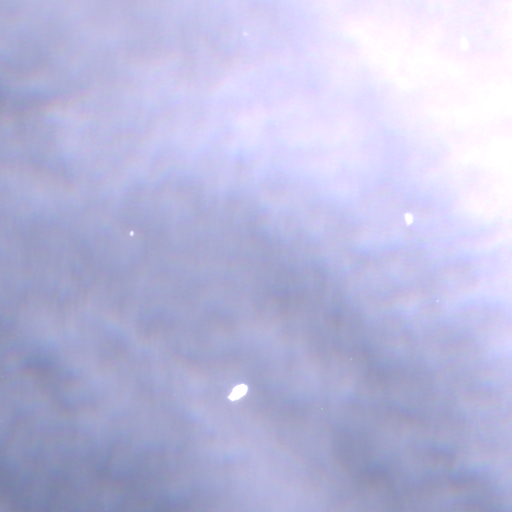Iceberg: (227, 384, 247, 400), (460, 38, 467, 50), (405, 213, 412, 225), (130, 231, 133, 235)
